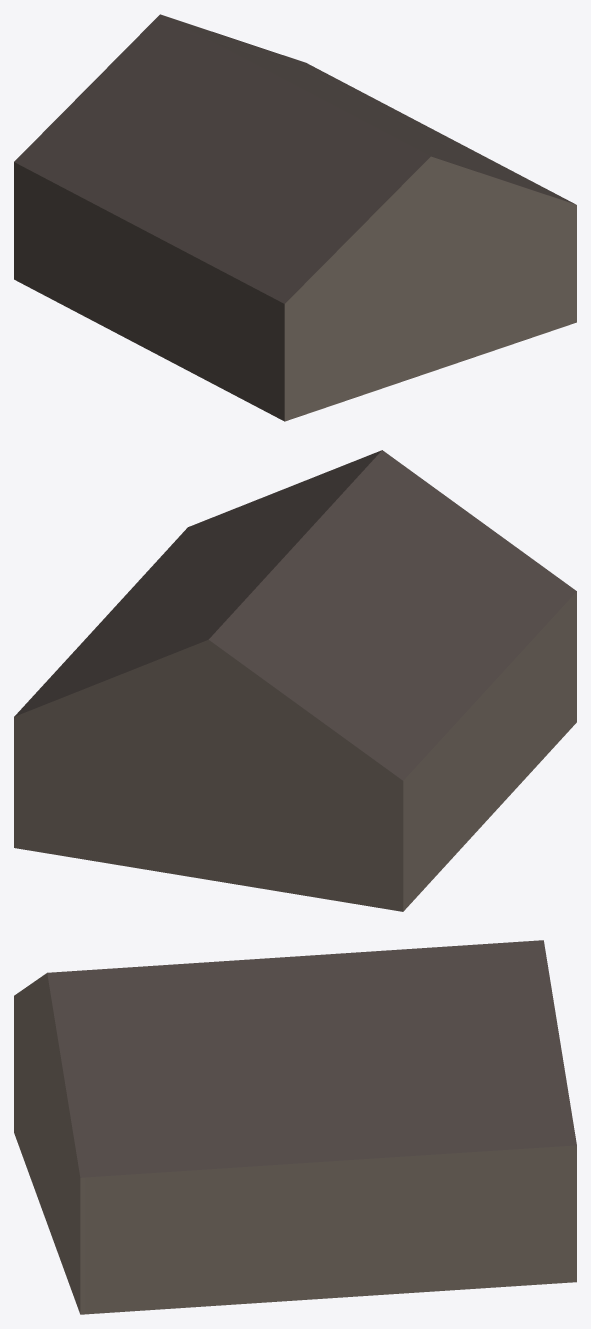
3 renders of one model, top to bottom at view 1: azimuth 30°, elevation 25°; view 2: azimuth 150°, elevation 25°; view 3: azimuth 270°, elevation 25°, orthographic. The views are drawn at different scales.
Parts seen in each view (by area): view 1: HP-w858807463; view 2: HP-w858807463; view 3: HP-w858807463.
Part boxes in pixels (<box>): HP-w858807463: <box>14,14,576,421</box>; HP-w858807463: <box>14,450,576,911</box>; HP-w858807463: <box>14,940,576,1314</box>.
Size of the model in its own units: 10.1 by 5.5 by 11.19.
